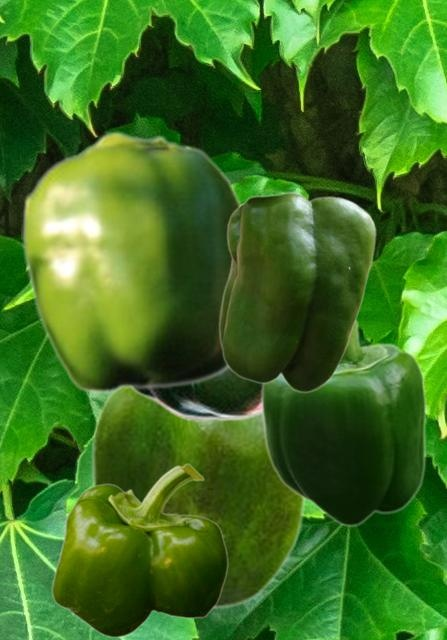bell_pepper: (21, 130, 243, 393), (90, 390, 308, 609), (260, 320, 426, 527), (218, 191, 376, 392), (51, 463, 227, 637), (129, 200, 260, 420)
